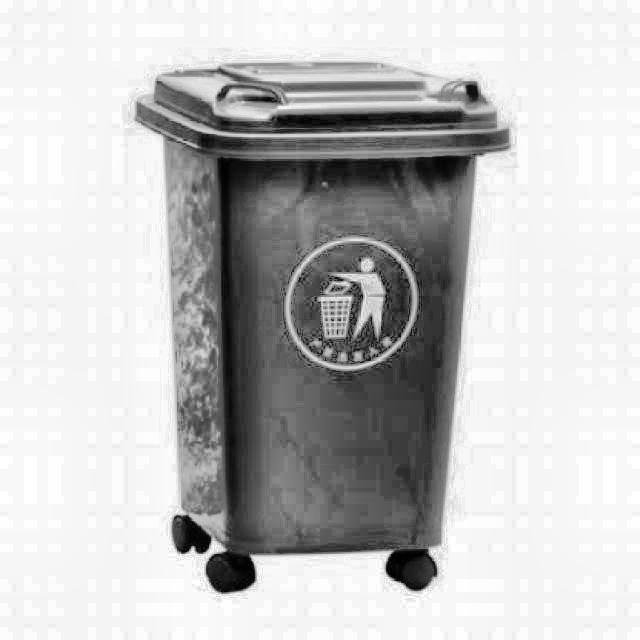Dustbin: (117, 51, 526, 630)
